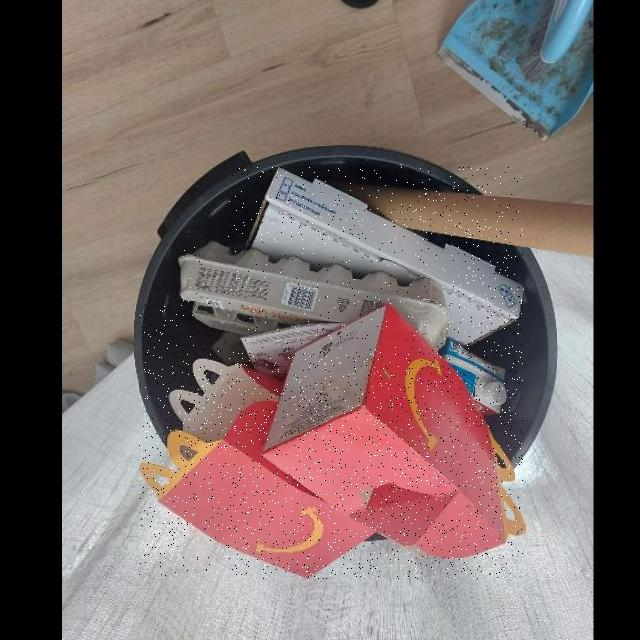paper: (140, 304, 525, 578), (228, 167, 524, 378), (179, 240, 451, 349), (440, 338, 507, 416)
